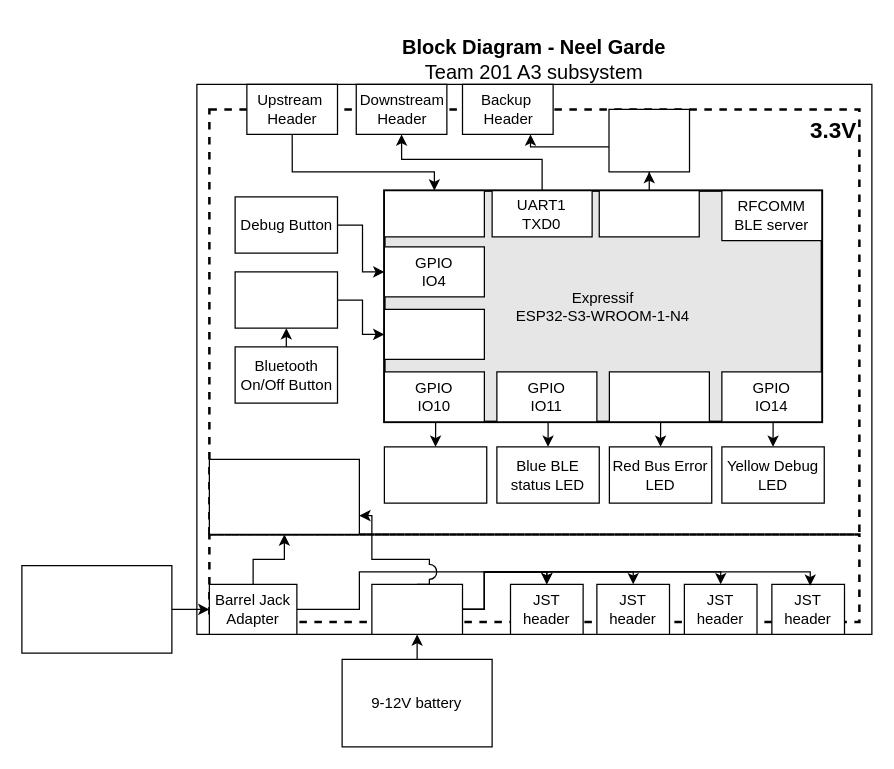
The diagram is 894 pixels wide and 769 high, and some of its shapes have lost their labels. The shapes that lost their labels are listed below. From the top down, each one's box as (x1, y1, x2, y2) in pixels, then its label:
(608, 108, 690, 172): RX/TX select bridge
(383, 189, 484, 237): UART1 RXD0
(598, 189, 699, 237): UART1 IO17 or IO18
(234, 271, 338, 328): RC filter
(383, 308, 484, 359): GPIO IO5
(608, 371, 709, 422): GPIO 1O12
(383, 446, 487, 503): Green Power On LED
(208, 458, 359, 534): Diodes Incorporated AP63203WU-7 3.3V 2A Switching Regulator
(208, 532, 860, 622): 9-12V
(21, 564, 172, 653): 9V-3A/12V-5A AC-DC Wall Power Supply
(371, 583, 462, 634): Battery header
